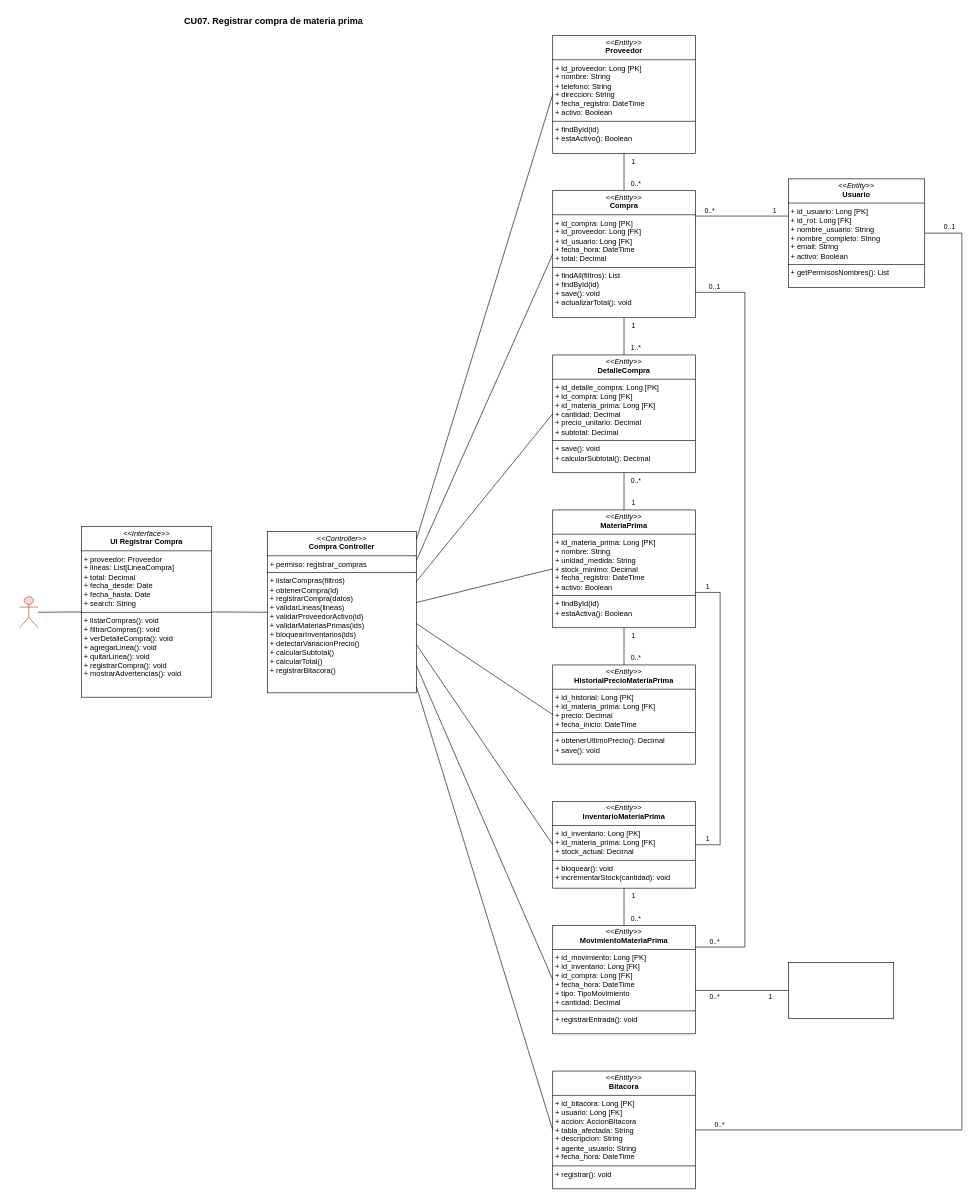
The diagram is 973 pixels wide and 1200 high, and some of its shapes have lost their labels. Here are the shapes that lost their labels. From the top down, the centre of each, then its label:
point (28, 612): Propietario
point (841, 990): <<Enum>> TipoMovimiento + entrada + salida
